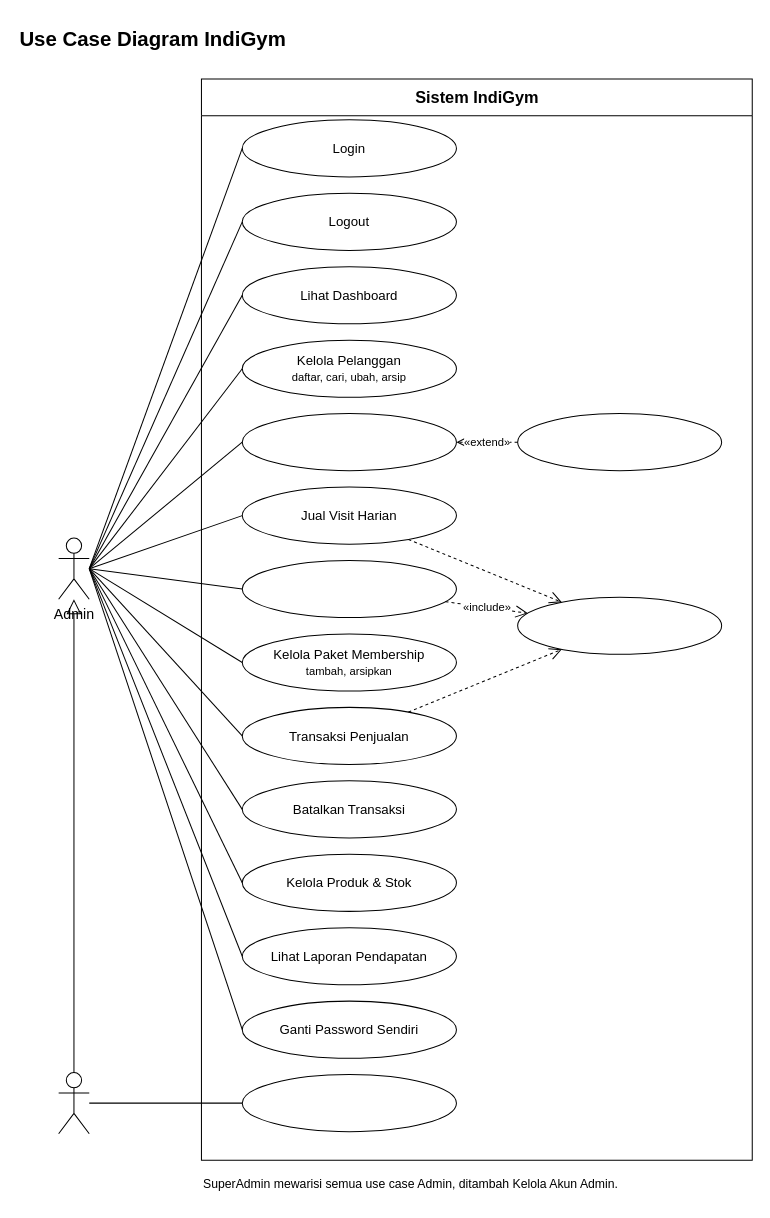
Image size: 770x1218. Some labels were removed from this diagram. The shapes that lost their labels are listed below. From the top down, each one's box as (x1, y1, x2, y2) in pixels, then its label:
(241, 413, 456, 471): Check-in Pelanggan
(517, 413, 722, 471): Izinkan Kunjungan Kedua
(241, 559, 456, 618): Bayar Membership
(517, 596, 722, 654): Cetak Bukti / Struk
(58, 1072, 89, 1134): SuperAdmin
(241, 1074, 456, 1132): Kelola Akun Admin tambah, reset password, nonaktifkan
